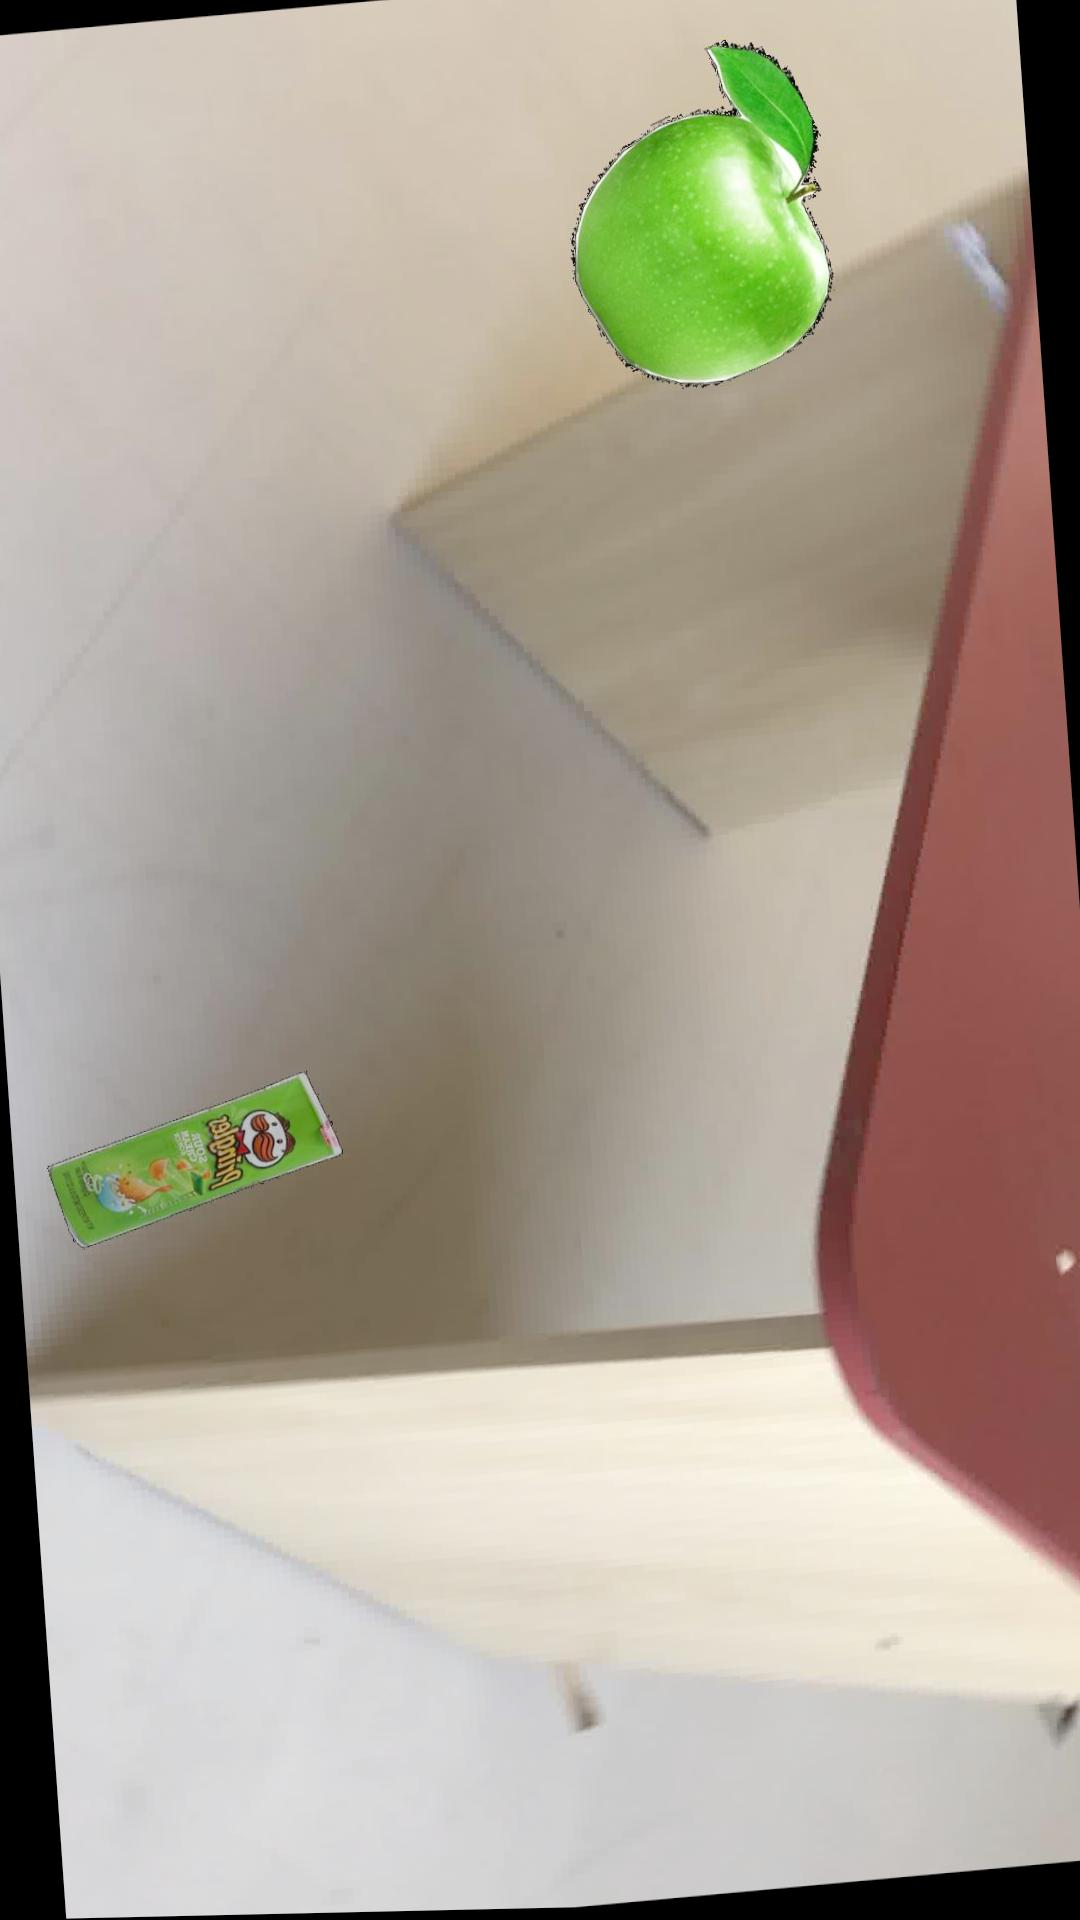green apple: (568, 42, 832, 389)
pringles: (45, 1072, 342, 1247)
